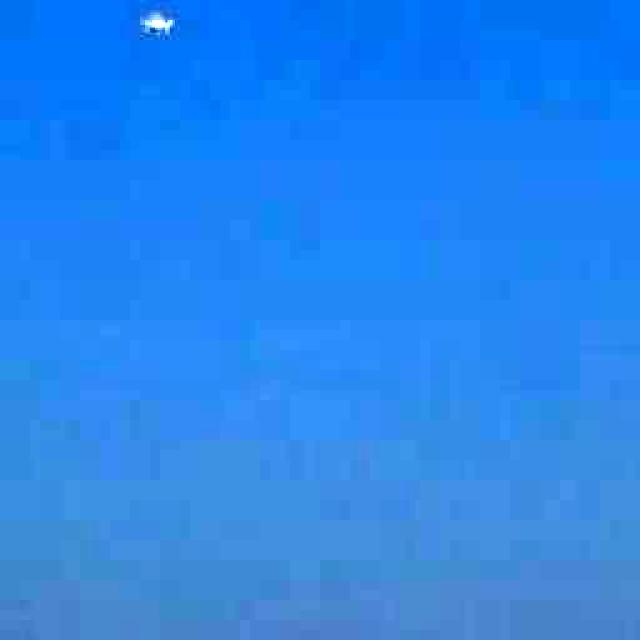bird: (124, 0, 191, 61)
